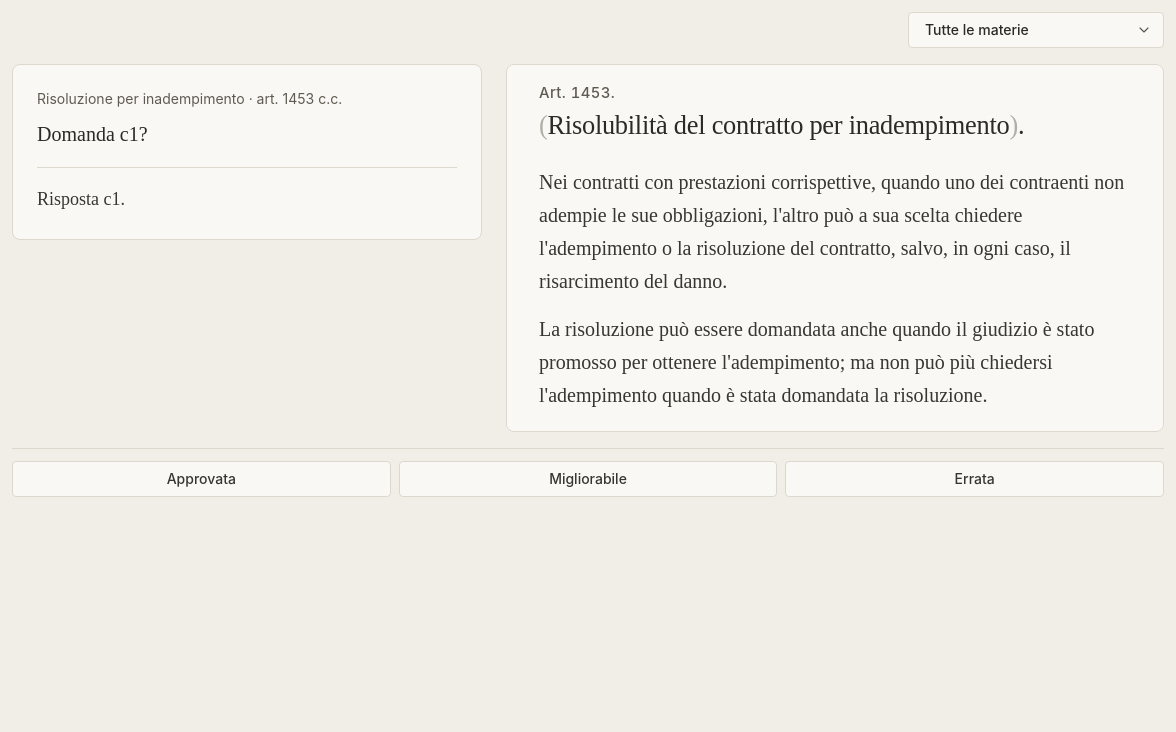
Test: «Da validare», a subject change while a vote is on its way › keeps showing the new subject’s card, never stuck on «Carico le schede…», once the vote resolves
Expected: the text "Domanda c1?" is shown, [37,123,148,145]
Click the button "Approvata" at (201, 479), box [12,461,391,497]
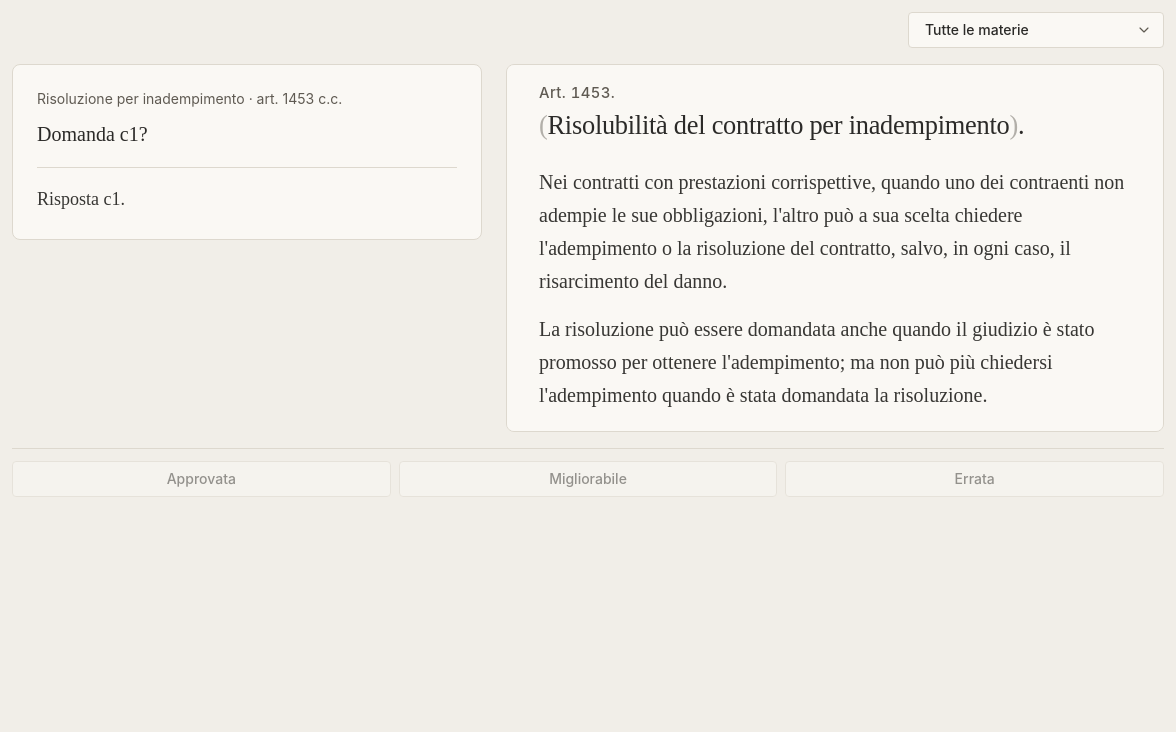
Select "Diritto penale" in the dropdown named "Materia" at (1036, 30), box [908,12,1164,48]
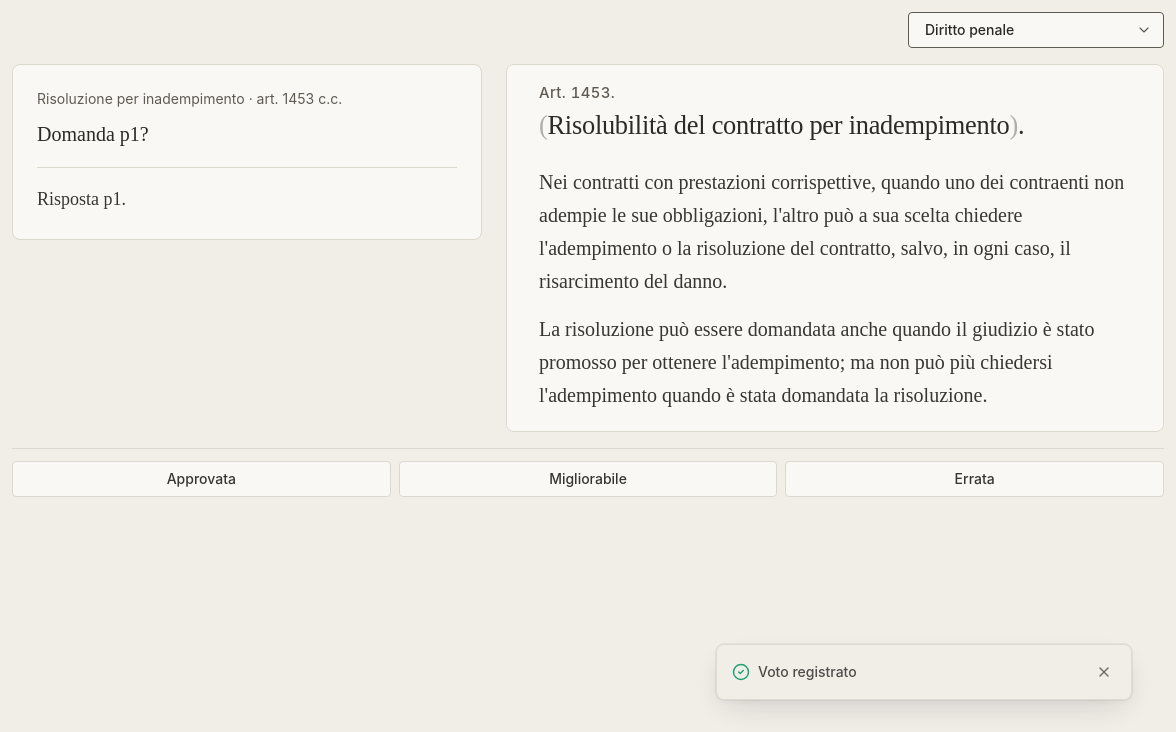
Expected: the text "Voto registrato" is shown, [758,663,857,680]
Expected: the text "Domanda p1?" is shown, [37,123,149,145]
